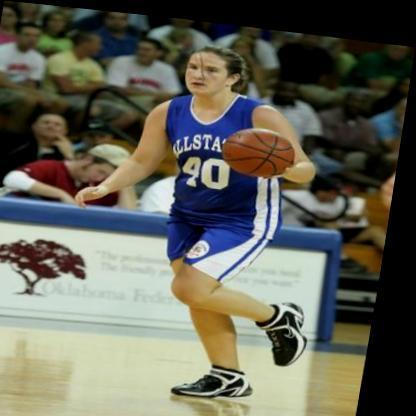basketball: (222, 117, 304, 175)
